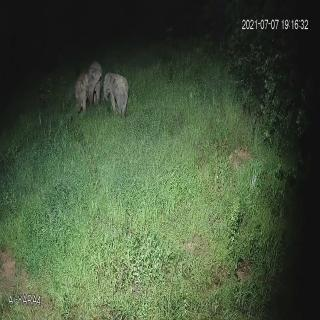Elephant: (103, 67, 131, 118), (86, 58, 104, 107), (74, 68, 89, 116)
